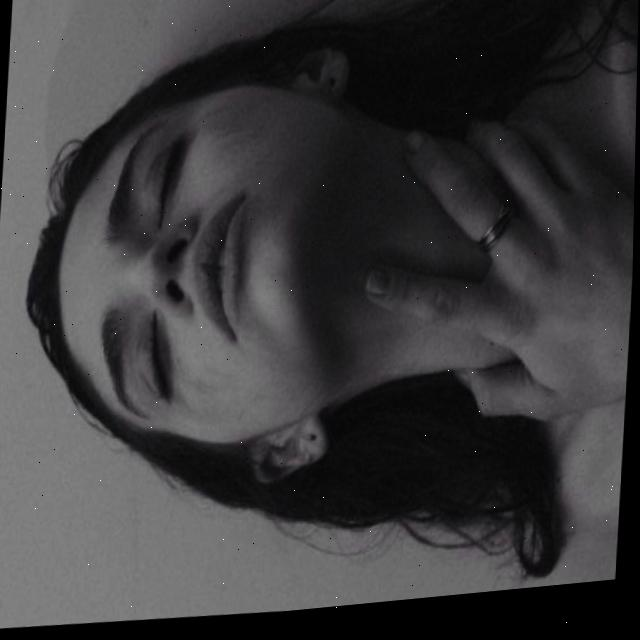sad: (76, 92, 354, 458)
